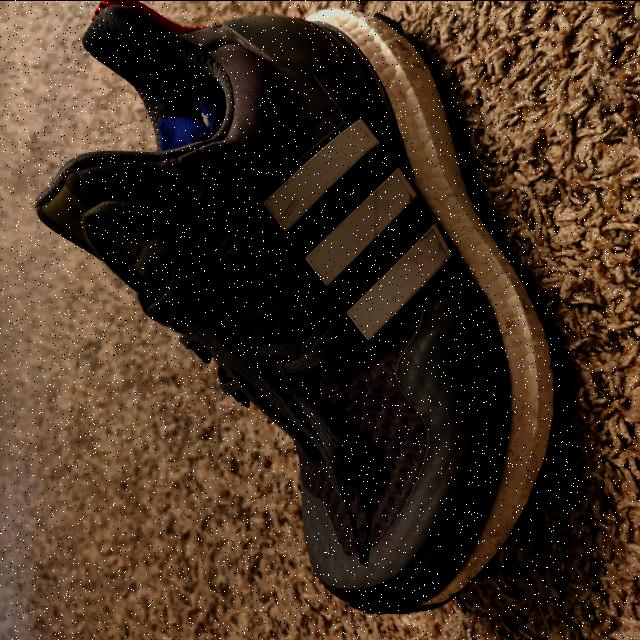black shoes: (126, 28, 502, 465)
